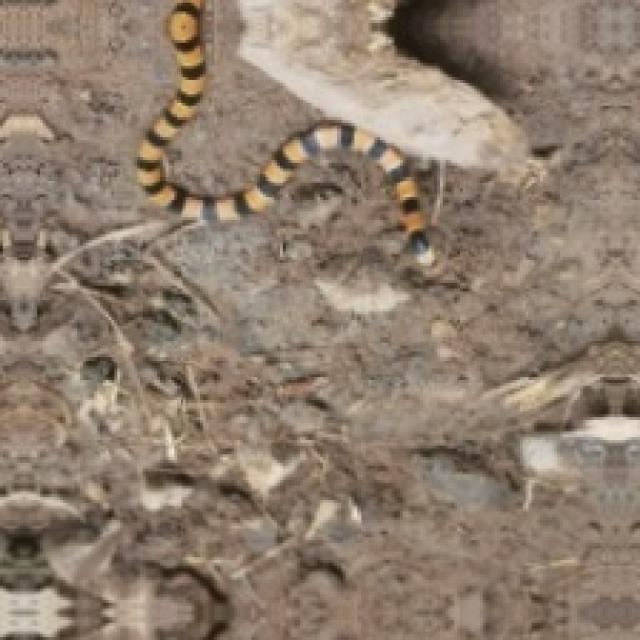barredcoral snake: (137, 0, 423, 229)
